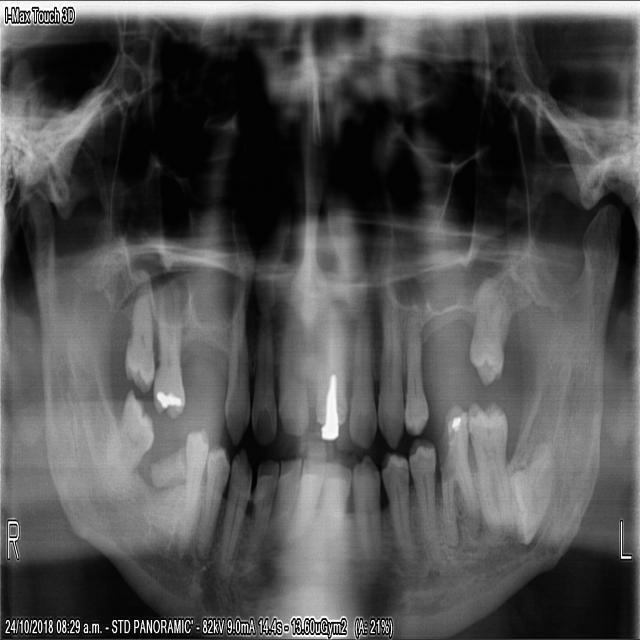LCD: (380, 450, 412, 554)
LCU: (378, 289, 404, 448)
LID: (351, 455, 382, 562), (319, 458, 351, 534)
LIU: (314, 294, 347, 443), (348, 292, 377, 449)
LMD: (467, 399, 518, 529), (435, 398, 482, 539)
LMU: (466, 277, 512, 388)
LPMD: (407, 437, 435, 544)
LPMU: (404, 308, 430, 437)
RCD: (250, 457, 281, 553)
RCU: (250, 302, 277, 447)
RID: (262, 455, 302, 553), (286, 454, 323, 547)
RIU: (278, 298, 309, 437)
RMD: (174, 422, 210, 550), (114, 388, 155, 474)
RMU: (149, 295, 188, 422), (121, 290, 156, 394)
RPMD: (216, 449, 254, 569), (195, 444, 230, 562)
RPMU: (224, 279, 249, 444)
